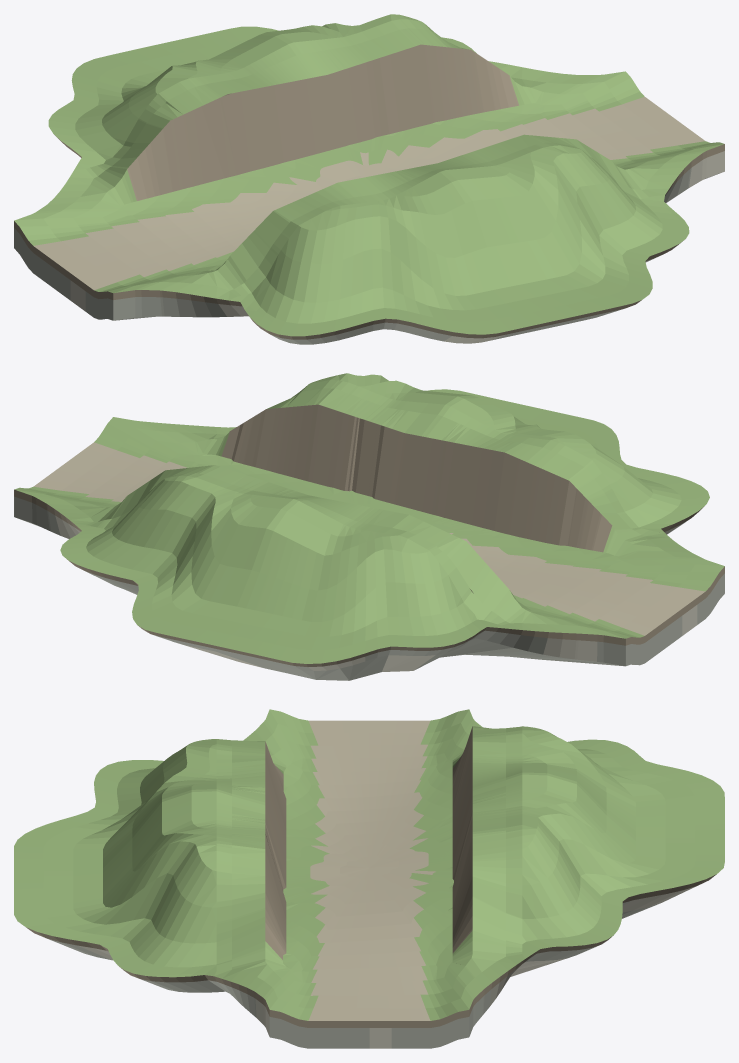
Rendered from path_cliff_passage_structure.fbx.
3 views of the same model, one above another, from view 1: azimuth 30°, elevation 25°; view 2: azimuth 150°, elevation 25°; view 3: azimuth 270°, elevation 25° (orthographic).
Visible parts, largest first — view 1: chunk_path_cliff_passage; view 2: chunk_path_cliff_passage; view 3: chunk_path_cliff_passage.
Boxes of the visible parts, <box> form: chunk_path_cliff_passage: <box>14,14,724,344</box>; chunk_path_cliff_passage: <box>14,373,724,680</box>; chunk_path_cliff_passage: <box>14,709,724,1048</box>.
Bounding box in the file's own units: 256 × 79.23 × 256.
